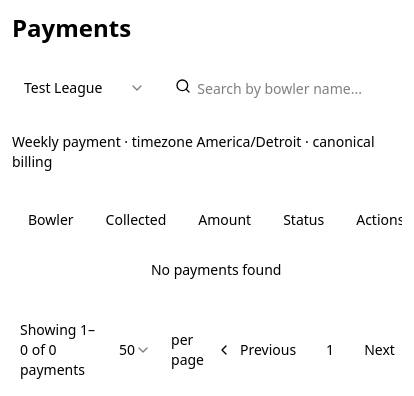
Test: PaymentsPage canonical evidence presentation › lists only active leagues in the financial scope selector
The width and height of the screenshot is (414, 396).
Click the dropdown named "Financial league scope".
click(85, 88)  # box top-left (12, 68), bottom-right (157, 108)
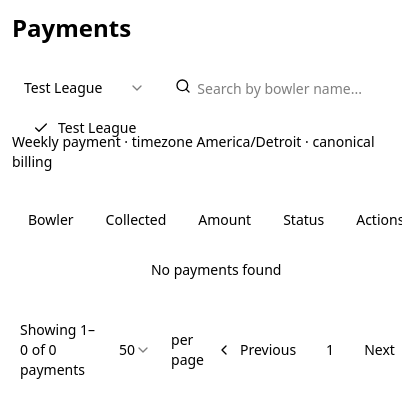
expect the option "Test League" is shown: met, box top-left (33, 118), bottom-right (136, 137)
